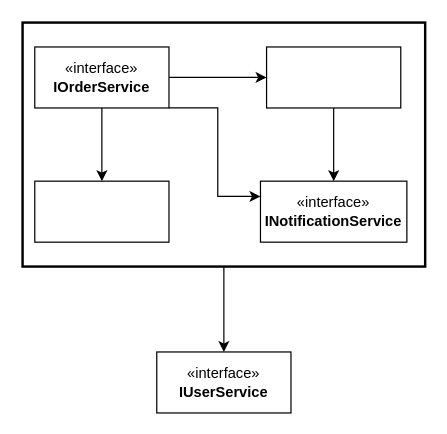
Some shapes in this 447 by 434 pixel diagram are drawn without their labels. Here are the shapes that lost their labels. From the top down, the centre of each, then its label:
At [333,77]: "«interface» IPaymentService".
At [101,211]: "«interface» IProductService".
